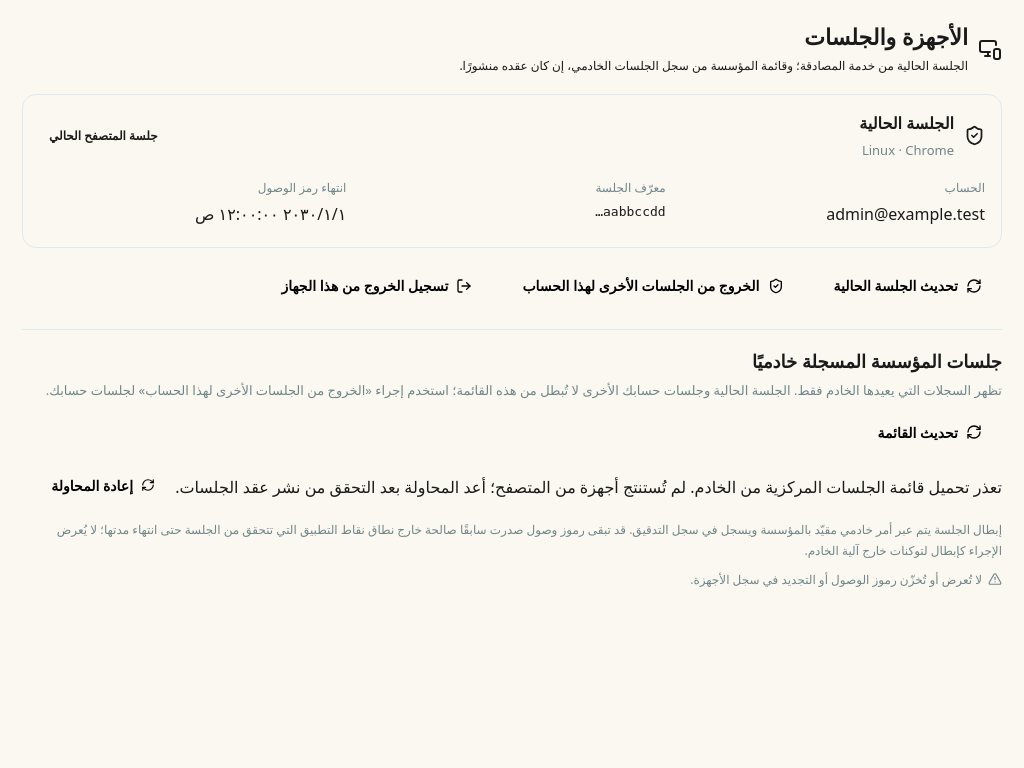
Test: central device and session management › recovers from a network failure when the administrator retries the session list
The image size is (1024, 768).
Expected: the message shows "تعذر تحميل قائمة الجلسات المركزية من الخادم", x1=175 y1=475 x2=1002 y2=497
Expected: the text "موظف الاختبار" is not shown
Click the button "إعادة المحاولة": [103, 485] box x1=31 y1=466 x2=175 y2=505
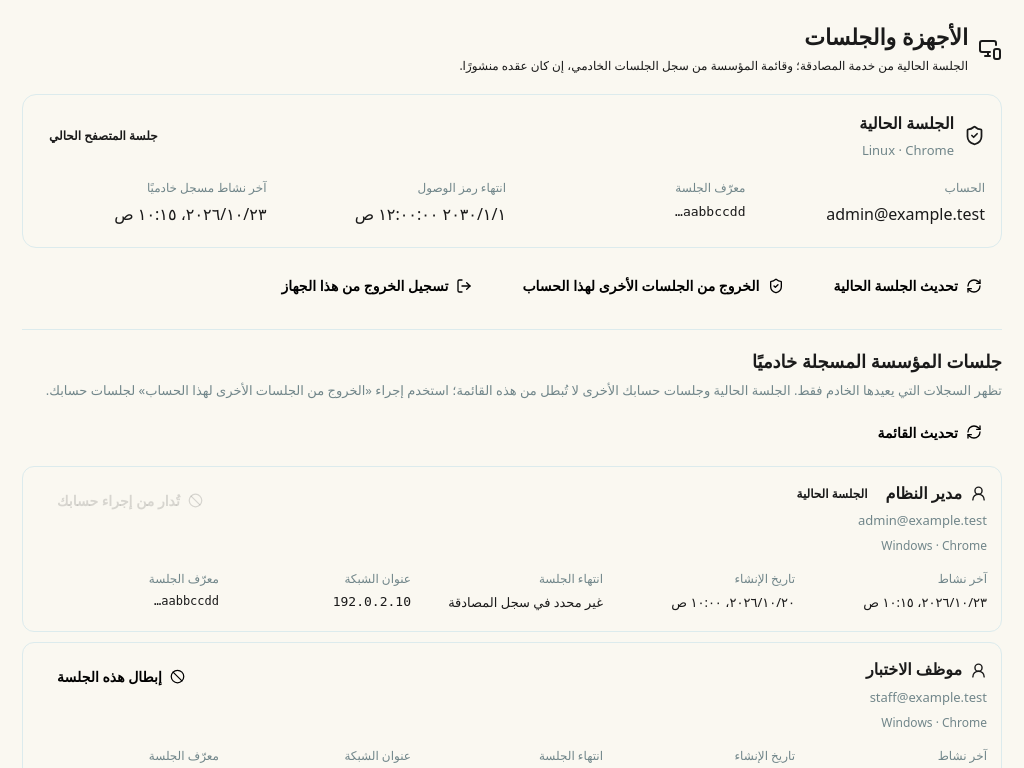
Expected: the text "موظف الاختبار" is shown, x1=866 y1=657 x2=962 y2=683
Expected: the message is gone
